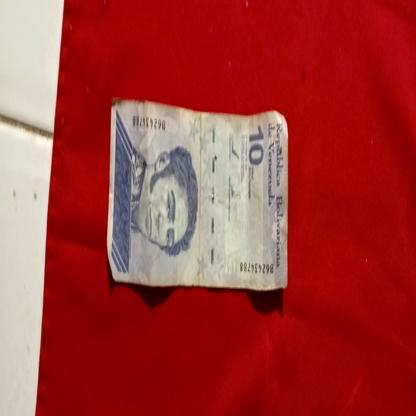ten-front-vef: (108, 102, 288, 294)
